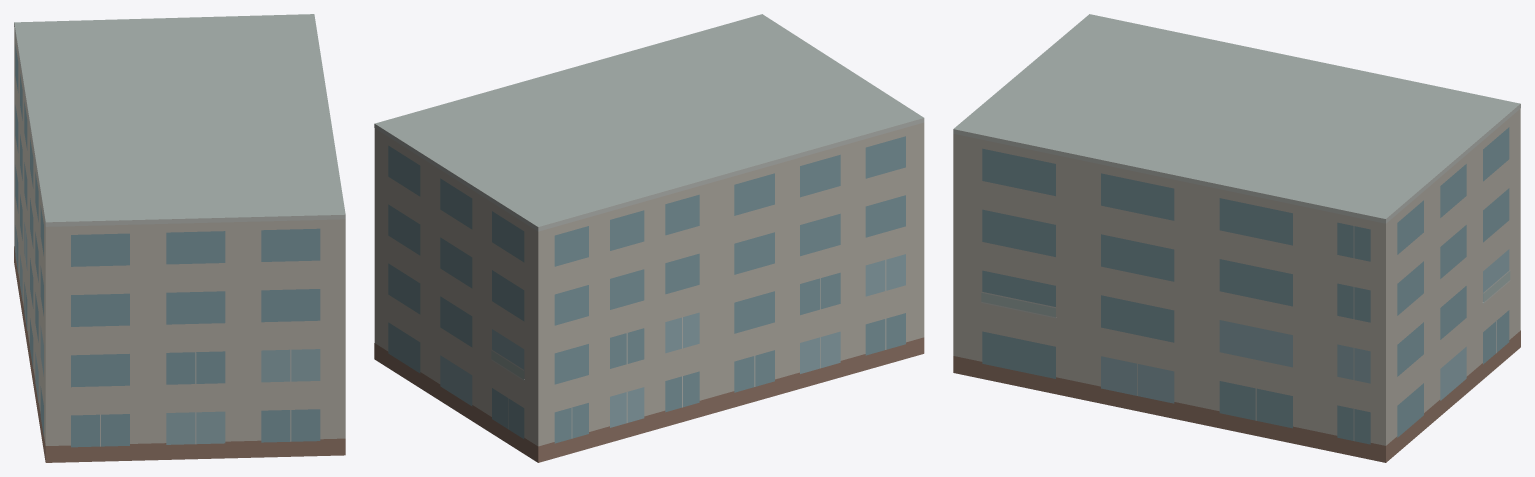
File: survey-upis-33005098.glb
3 views of the same model, side by side, from view 1: azimuth 30°, elevation 25°; view 2: azimuth 150°, elevation 25°; view 3: azimuth 270°, elevation 25° (orthographic). The views are drawn at different scales.
Visible parts, largest first — view 1: survey-upis-33005098.tmp; view 2: survey-upis-33005098.tmp; view 3: survey-upis-33005098.tmp.
Boxes of the visible parts, x1,y1,x2,y2 form: survey-upis-33005098.tmp: [14, 14, 345, 462]; survey-upis-33005098.tmp: [374, 14, 924, 462]; survey-upis-33005098.tmp: [953, 14, 1520, 462].
Size of the model in its own units: 23.11 by 12.8 by 27.01.
